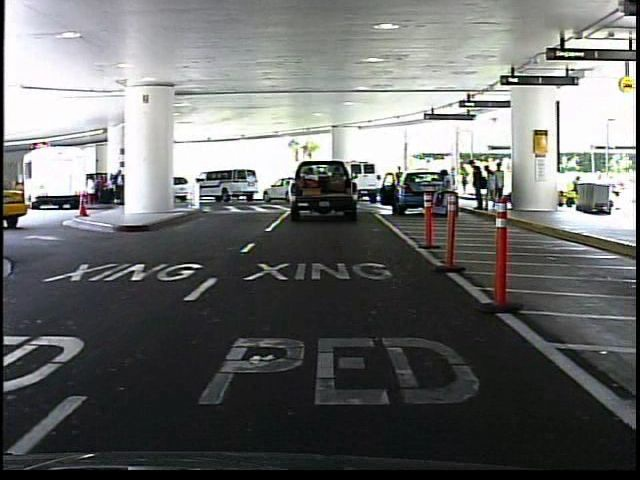person: (393, 164, 409, 204), (438, 164, 457, 193)
